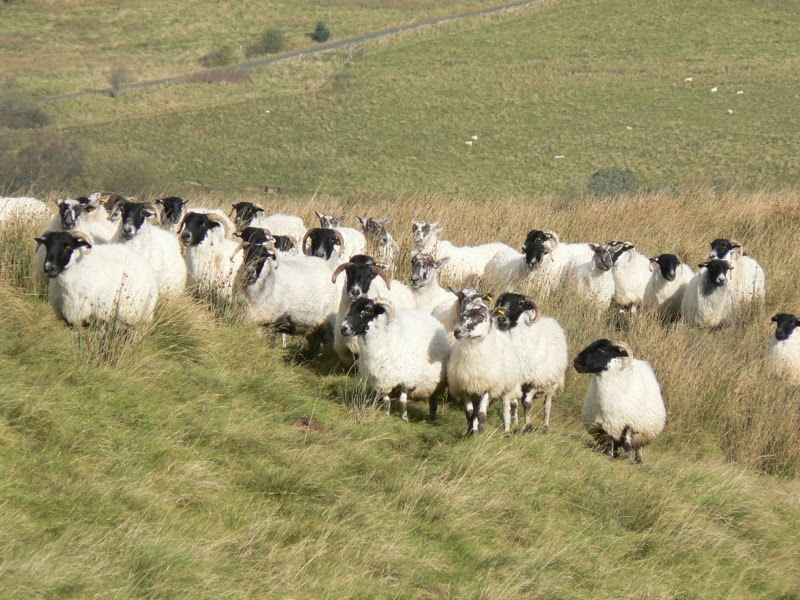sheep: (338, 290, 461, 429), (447, 289, 545, 453), (64, 230, 177, 351), (573, 332, 663, 454), (487, 284, 566, 411), (388, 212, 488, 294), (694, 222, 761, 340), (167, 215, 257, 292), (351, 243, 420, 329), (637, 239, 697, 324), (519, 221, 583, 300), (43, 194, 160, 237), (608, 233, 659, 323), (238, 228, 296, 297), (291, 223, 351, 289), (575, 225, 620, 311), (768, 295, 800, 356)
